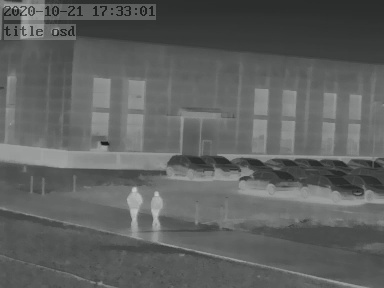person: (127, 186, 143, 227), (148, 191, 164, 231)
vehicle: (300, 171, 362, 199), (239, 169, 303, 191), (166, 153, 211, 178), (349, 173, 382, 200), (204, 154, 242, 177), (232, 155, 269, 171), (262, 155, 296, 169), (347, 156, 380, 170), (318, 156, 347, 170), (295, 156, 324, 169)
